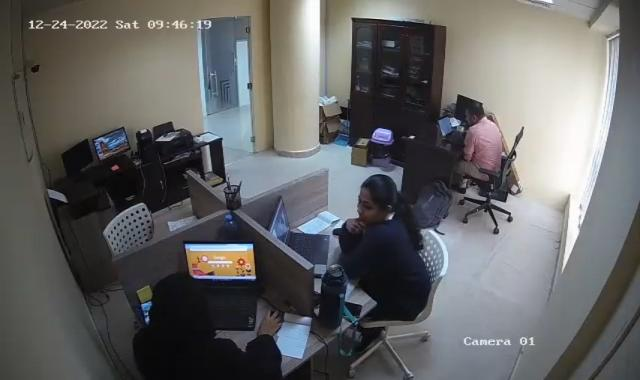no_hairnet: (153, 278, 204, 333), (354, 174, 395, 221), (466, 102, 486, 128)
